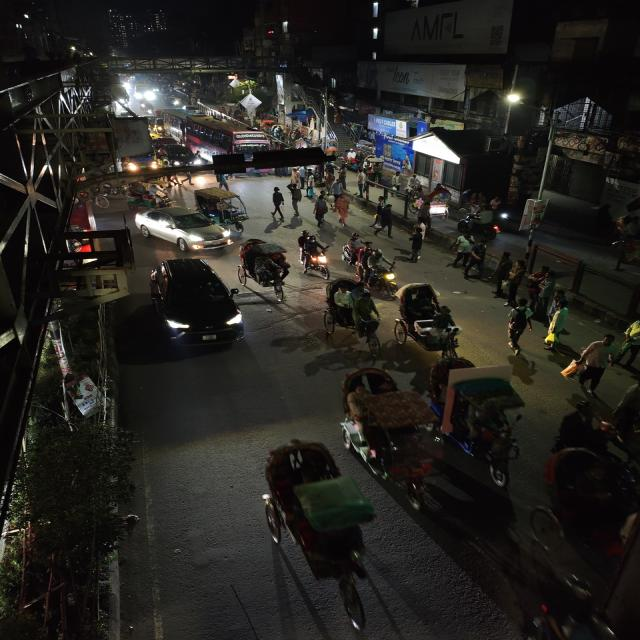bus: (181, 117, 268, 161)
car: (146, 254, 248, 350), (136, 207, 229, 254), (158, 144, 200, 168)
motorcycle: (358, 248, 399, 293), (296, 231, 332, 279)
pedestrian: (317, 278, 372, 348), (576, 331, 618, 397), (348, 286, 383, 346), (502, 300, 536, 352), (327, 279, 358, 335), (541, 303, 573, 352), (616, 312, 640, 371), (530, 264, 558, 300), (491, 254, 514, 295), (448, 234, 474, 270), (464, 240, 488, 278), (371, 202, 395, 238), (407, 225, 430, 262), (341, 232, 366, 266), (333, 194, 356, 228), (276, 184, 301, 214), (268, 186, 288, 222), (310, 194, 331, 228), (506, 258, 526, 290), (287, 183, 303, 211), (329, 176, 346, 198)
pickup_van: (123, 150, 159, 176)
rickshaw: (238, 430, 398, 626), (330, 362, 444, 502), (433, 358, 534, 494), (389, 279, 470, 357), (236, 236, 293, 298), (195, 186, 250, 226), (123, 181, 161, 210)
